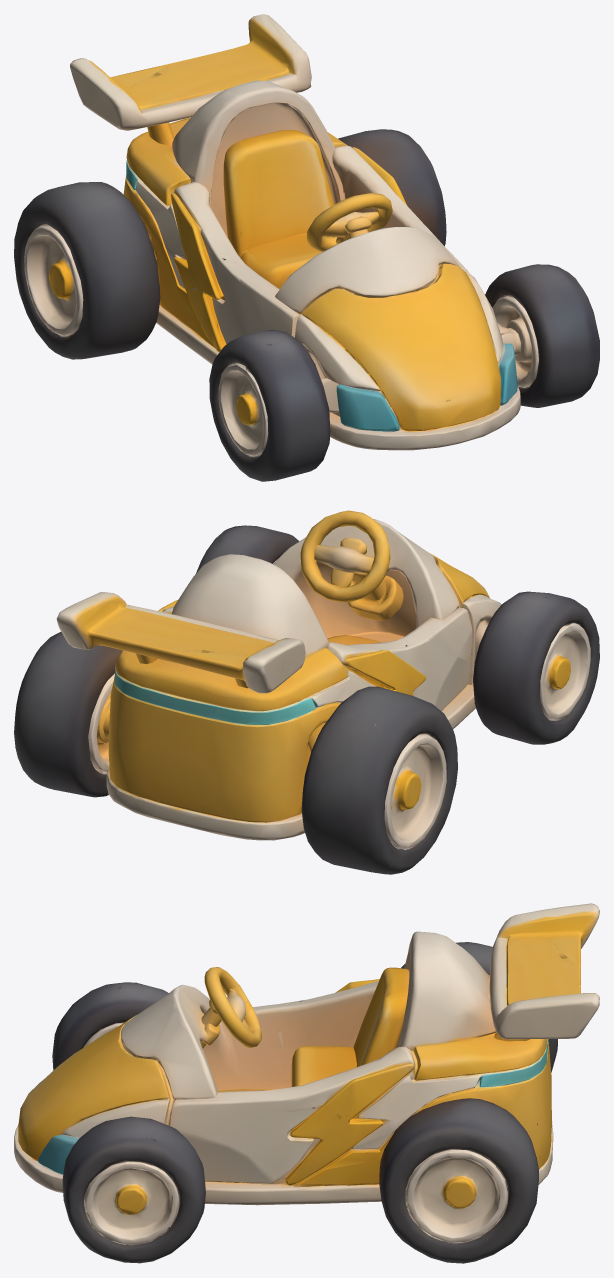
Rendered from bolt-cartoon-mobile-decimated.glb.
The picture shows the model from 3 angles, top to bottom: view 1: azimuth 30°, elevation 25°; view 2: azimuth 150°, elevation 25°; view 3: azimuth 270°, elevation 25°; orthographic projection. The views are drawn at different scales.
Visible parts, largest first — view 1: model; view 2: model; view 3: model.
Part boxes in pixels (x1,y1,x2,y2): model: [14, 14, 599, 481]; model: [14, 510, 599, 874]; model: [14, 903, 599, 1263].
Bounding box in the file's own units: 1.36 × 0.888 × 1.9.
Materials: 1 (1 with a texture image).
